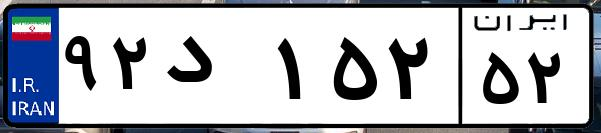1: (270, 28, 330, 110)
2: (385, 28, 445, 110), (525, 38, 570, 115), (110, 28, 158, 98)
5: (330, 28, 385, 110), (475, 38, 525, 113)
9: (57, 26, 110, 100)
د: (158, 20, 270, 120)
